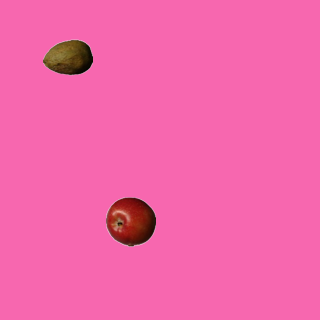Apple Braeburn: (105, 196, 155, 246)
Papaya: (42, 32, 92, 82)
